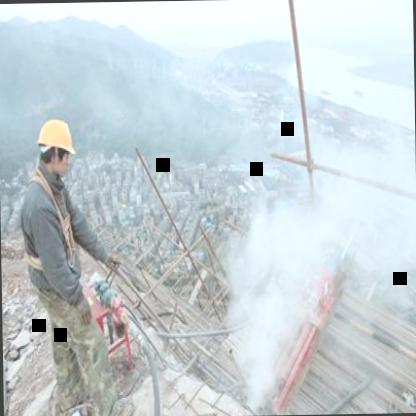helmet: (34, 112, 78, 184)
